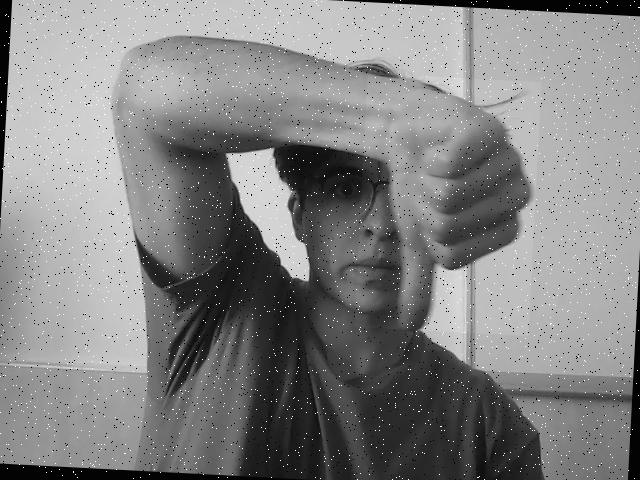bad: (354, 73, 542, 336)
